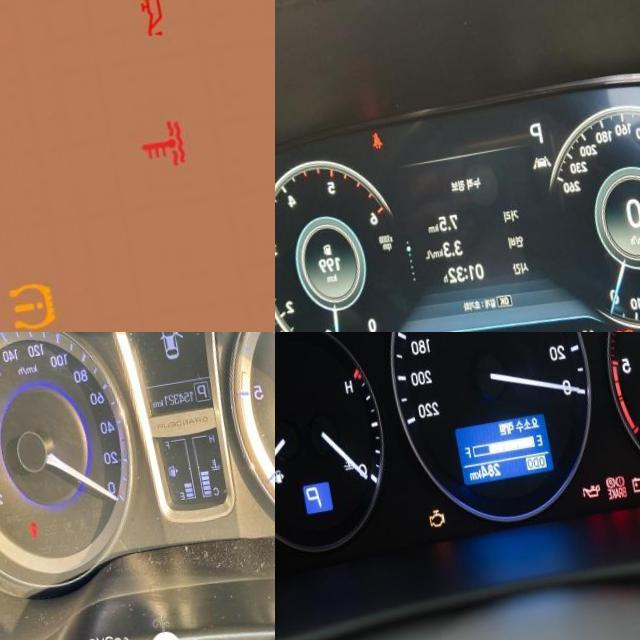Doors: (10, 525, 24, 544)
